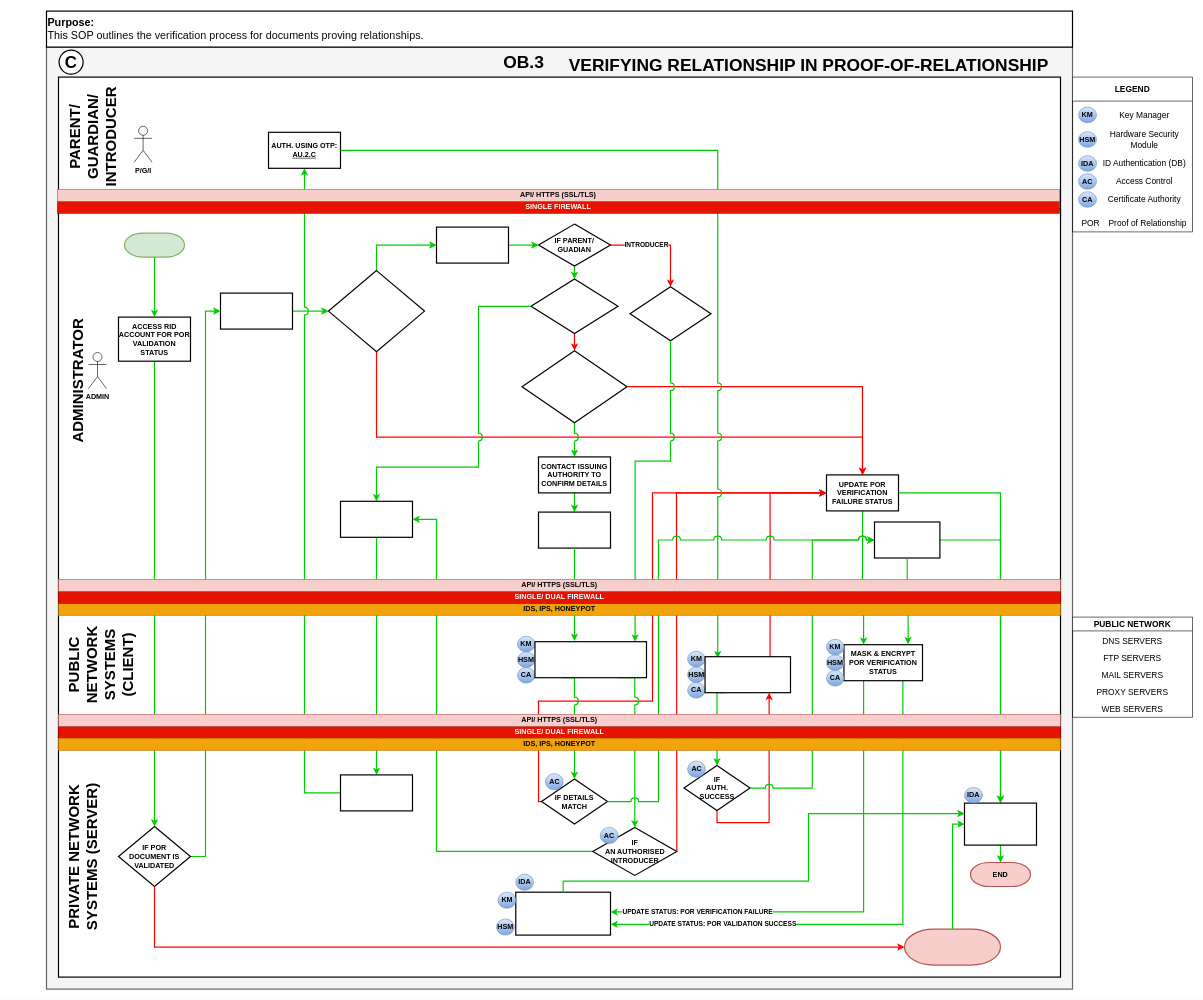
Some shapes in this 1203 by 1000 pixel diagram are drawn without their labels. Here are the shapes that lost their labels. From the top down, the centre of each, then its label:
the point at 154,244: START
the point at 472,244: CHECK TYPE OF RELATIONSHIP DECLARED
the point at 256,310: VERIFY APPLICANT NAME
the point at 376,311: IF APPLICANT NAME & PRIMARY SUBJECT NAME IN POR MATCH
the point at 574,306: IF PARENT/ GUADIAN UIN PROVIDED
the point at 670,313: IF INTRODUCER UIN PROVIDED
the point at 574,386: IF POR DOCUMENT HAS REFERENCE NUMBER AND PARENT/ GUADIAN NAME
the point at 376,519: INITIATE OTP SELF VERIFICATION FOR P/G/I
the point at 574,529: RECEIVE REPORT OF CONFIRMATION OF DETAILS
the point at 907,539: UPDATE POR VERIFIED STATUS
the point at 590,659: MASK & ENCRYPT POR AND P/G/I DETAILS
the point at 747,674: MASK & ENCRYPT OTP AUTH. STATUS
the point at 376,792: GENERATE OTP FOR P/G/I AUTH. AU.2.A
the point at 1000,823: LOGS THE PROCESS AND STATUS
the point at 563,913: STORE POR VERIFICATION STATUS IN RID ACCOUNT
the point at 952,946: TERMINATE PROCESS
